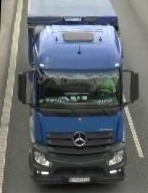truck: (14, 0, 138, 193)
